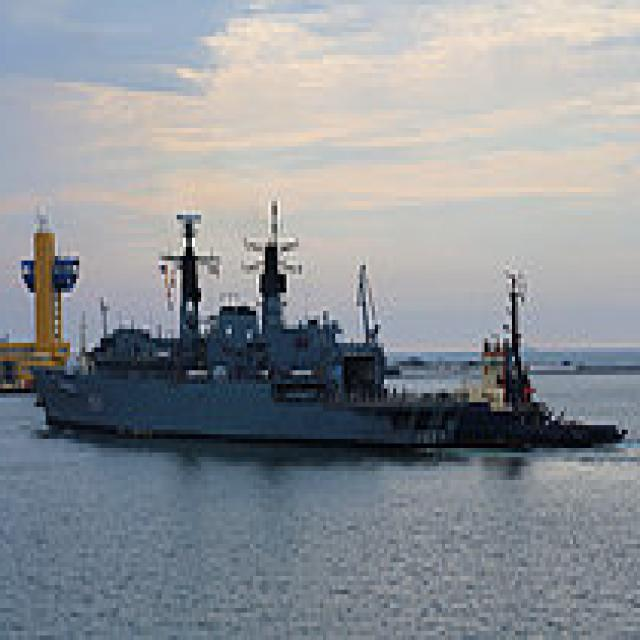Warship: (27, 197, 625, 448)
